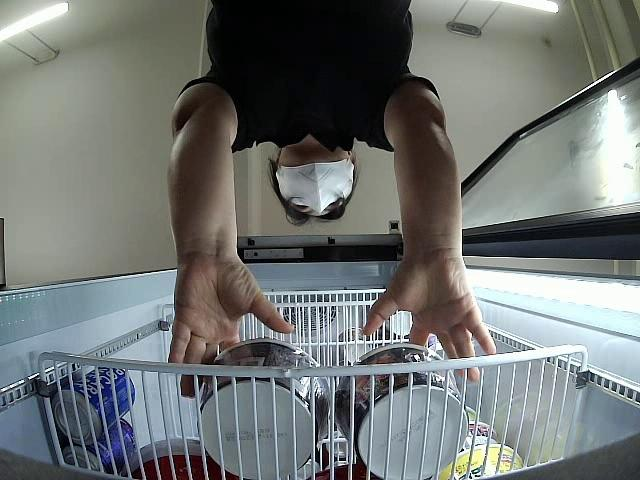00_hand: (168, 257, 295, 397), (361, 271, 497, 381)
07_buldak_L: (195, 339, 332, 477), (335, 343, 468, 480)
